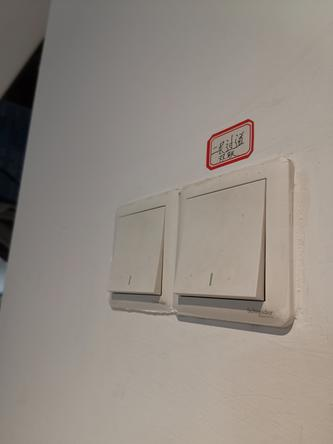switch: (169, 169, 271, 308), (102, 203, 175, 297)
